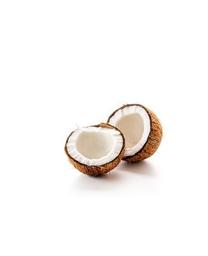coconut: (106, 103, 163, 163), (64, 123, 125, 177)
